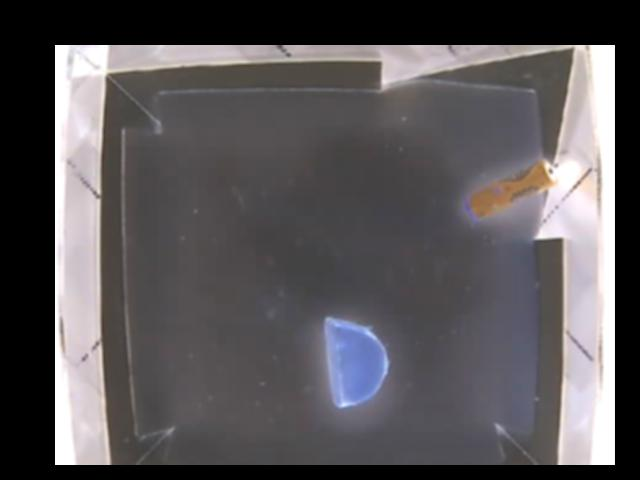Battery: (460, 157, 556, 220)
Potato: (321, 317, 390, 404)
